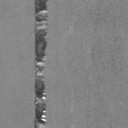slag inclusion: (32, 0, 50, 128)
